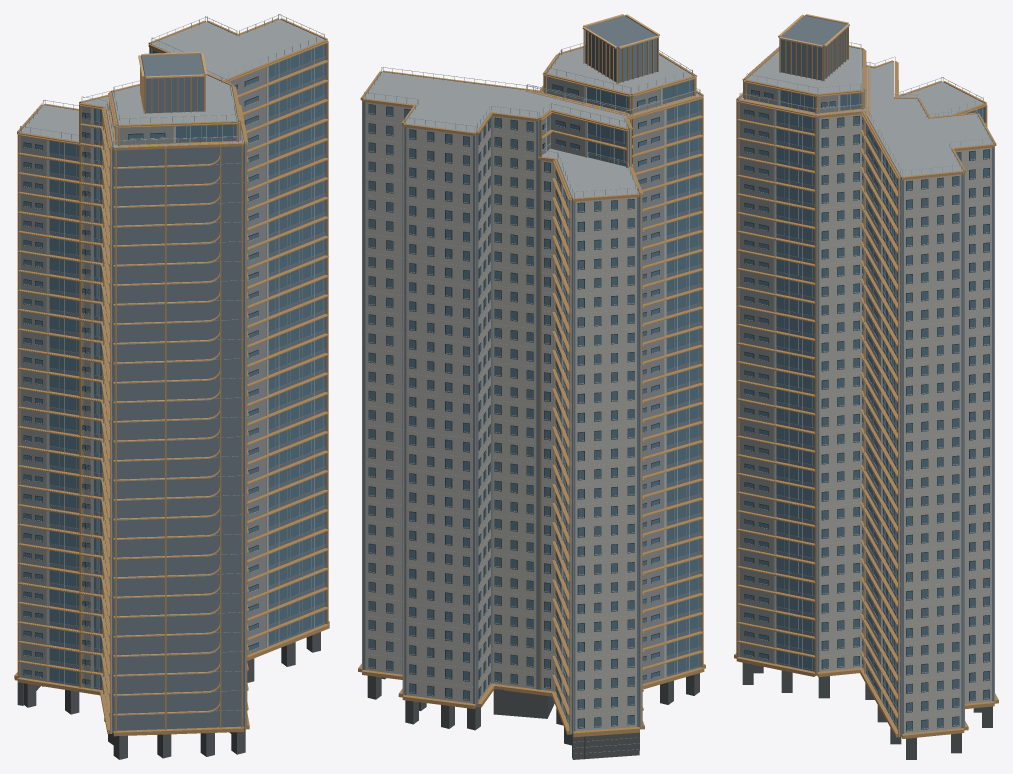
The model's file is bespoke-raemian-onepentas-103.glb.
3 renders of one model, left to right at view 1: azimuth 30°, elevation 25°; view 2: azimuth 150°, elevation 25°; view 3: azimuth 270°, elevation 25°, orthographic. The views are drawn at different scales.
Parts seen in each view (by area): view 1: bespoke-raemian-onepentas-103_export_batch_4, bespoke-raemian-onepentas-103_export_batch_6, bespoke-raemian-onepentas-103_export_batch_2, bespoke-raemian-onepentas-103_export_batch_10, bespoke-raemian-onepentas-103_export_batch_7, bespoke-raemian-onepentas-103_export_batch_3, bespoke-raemian-onepentas-103_export_batch_8, bespoke-raemian-onepentas-103_export_batch_5, bespoke-raemian-onepentas-103_export_batch_1, bespoke-raemian-onepentas-103_export_batch_9; view 2: bespoke-raemian-onepentas-103_export_batch_8, bespoke-raemian-onepentas-103_export_batch_6, bespoke-raemian-onepentas-103_export_batch_4, bespoke-raemian-onepentas-103_export_batch_2, bespoke-raemian-onepentas-103_export_batch_9, bespoke-raemian-onepentas-103_export_batch_3, bespoke-raemian-onepentas-103_export_batch_10, bespoke-raemian-onepentas-103_export_batch_5, bespoke-raemian-onepentas-103_export_batch_1, bespoke-raemian-onepentas-103_export_batch_7; view 3: bespoke-raemian-onepentas-103_export_batch_8, bespoke-raemian-onepentas-103_export_batch_6, bespoke-raemian-onepentas-103_export_batch_2, bespoke-raemian-onepentas-103_export_batch_10, bespoke-raemian-onepentas-103_export_batch_4, bespoke-raemian-onepentas-103_export_batch_3, bespoke-raemian-onepentas-103_export_batch_9, bespoke-raemian-onepentas-103_export_batch_5, bespoke-raemian-onepentas-103_export_batch_7, bespoke-raemian-onepentas-103_export_batch_1.
Part boxes in pixels (left/top/right/bottom): bespoke-raemian-onepentas-103_export_batch_4: left=49, top=47, right=325, bottom=733; bespoke-raemian-onepentas-103_export_batch_6: left=24, top=44, right=325, bottom=732; bespoke-raemian-onepentas-103_export_batch_2: left=14, top=18, right=329, bottom=736; bespoke-raemian-onepentas-103_export_batch_10: left=20, top=67, right=266, bottom=689; bespoke-raemian-onepentas-103_export_batch_7: left=18, top=52, right=328, bottom=715; bespoke-raemian-onepentas-103_export_batch_3: left=20, top=14, right=324, bottom=719; bespoke-raemian-onepentas-103_export_batch_8: left=18, top=43, right=326, bottom=733; bespoke-raemian-onepentas-103_export_batch_5: left=20, top=19, right=325, bottom=146; bespoke-raemian-onepentas-103_export_batch_1: left=17, top=632, right=320, bottom=759; bespoke-raemian-onepentas-103_export_batch_9: left=23, top=50, right=258, bottom=685; bespoke-raemian-onepentas-103_export_batch_8: left=362, top=73, right=703, bottom=734; bespoke-raemian-onepentas-103_export_batch_6: left=369, top=80, right=700, bottom=733; bespoke-raemian-onepentas-103_export_batch_4: left=362, top=15, right=700, bottom=732; bespoke-raemian-onepentas-103_export_batch_2: left=358, top=15, right=705, bottom=737; bespoke-raemian-onepentas-103_export_batch_9: left=368, top=84, right=659, bottom=728; bespoke-raemian-onepentas-103_export_batch_3: left=364, top=43, right=700, bottom=753; bespoke-raemian-onepentas-103_export_batch_10: left=542, top=77, right=664, bottom=706; bespoke-raemian-onepentas-103_export_batch_5: left=364, top=47, right=700, bottom=198; bespoke-raemian-onepentas-103_export_batch_1: left=367, top=673, right=699, bottom=759; bespoke-raemian-onepentas-103_export_batch_7: left=542, top=14, right=703, bottom=714; bespoke-raemian-onepentas-103_export_batch_8: left=737, top=50, right=994, bottom=737; bespoke-raemian-onepentas-103_export_batch_6: left=744, top=50, right=989, bottom=735; bespoke-raemian-onepentas-103_export_batch_2: left=734, top=15, right=998, bottom=738; bespoke-raemian-onepentas-103_export_batch_10: left=739, top=83, right=880, bottom=699; bespoke-raemian-onepentas-103_export_batch_4: left=776, top=16, right=994, bottom=735; bespoke-raemian-onepentas-103_export_batch_3: left=739, top=42, right=993, bottom=730; bespoke-raemian-onepentas-103_export_batch_9: left=744, top=89, right=989, bottom=731; bespoke-raemian-onepentas-103_export_batch_5: left=739, top=47, right=993, bottom=176; bespoke-raemian-onepentas-103_export_batch_7: left=737, top=14, right=986, bottom=717; bespoke-raemian-onepentas-103_export_batch_1: left=742, top=662, right=992, bottom=759.
Bounding box in the file's own units: 48.31 × 105 × 39.64.
